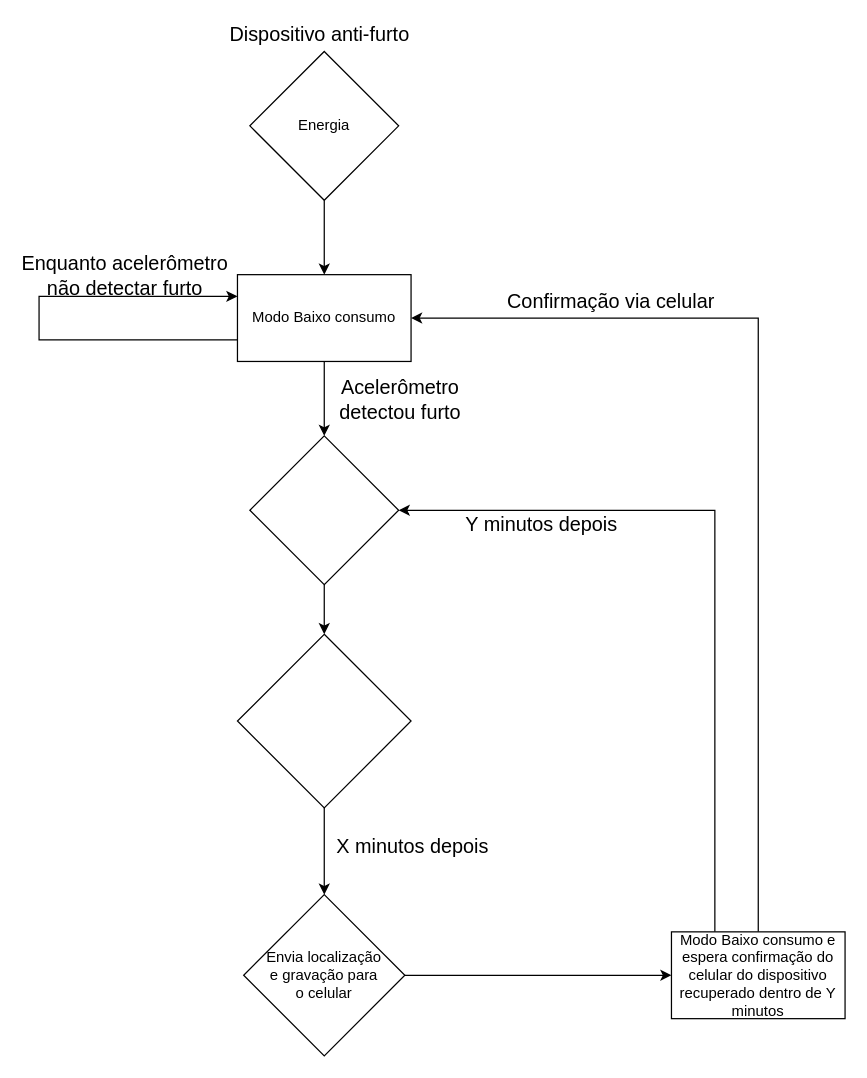
This 867x1078 diagram has some shape labels left out. Here are the shapes that lost their labels. From the top down, the centre of each, then its label:
At pixel 324 510: "Captura localização do dispositivo".
At pixel 323 720: "Abre o Microfone e grava por X minutos".
